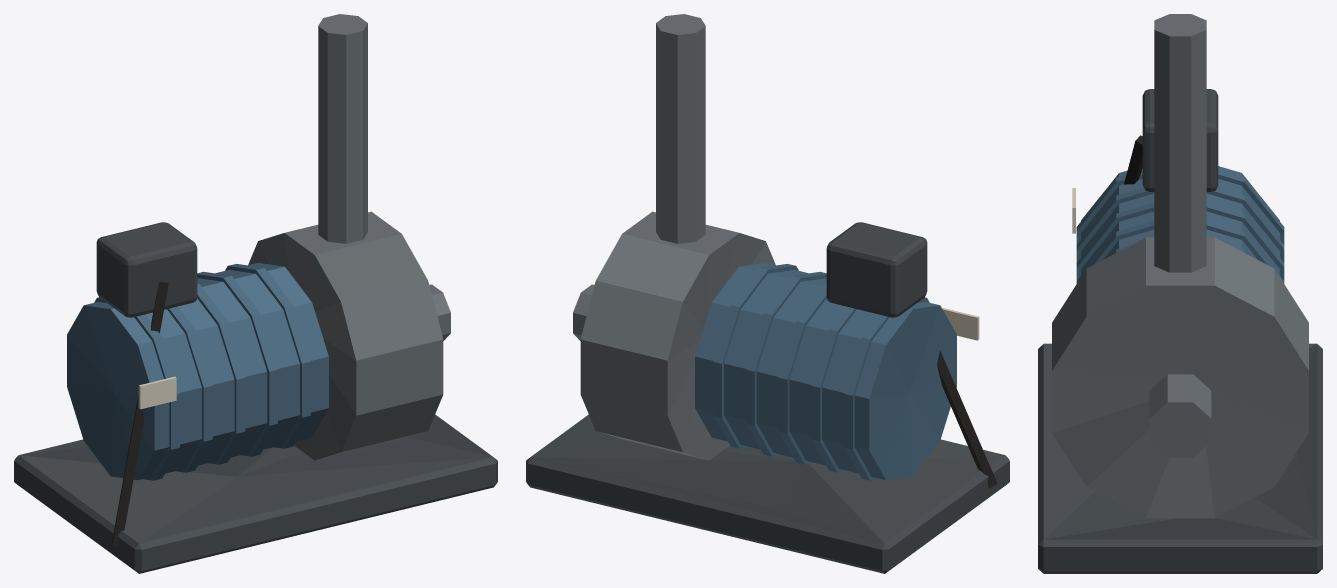
Rendered from water_pump_elektricheskiy_idle.glb.
3 views of the same model, side by side, from view 1: azimuth 30°, elevation 25°; view 2: azimuth 150°, elevation 25°; view 3: azimuth 270°, elevation 25° (orthographic). The views are drawn at different scales.
Parts seen in each view (by area): view 1: water_pump_elektricheskiy_idle; view 2: water_pump_elektricheskiy_idle; view 3: water_pump_elektricheskiy_idle.
Part boxes in pixels (x1,y1,x2,y2): water_pump_elektricheskiy_idle: (14,14,497,573); water_pump_elektricheskiy_idle: (526,14,1009,573); water_pump_elektricheskiy_idle: (1038,14,1322,573).
Bounding box in the file's own units: 0.5072 × 0.58 × 0.3.
1 material, 1 textured.
